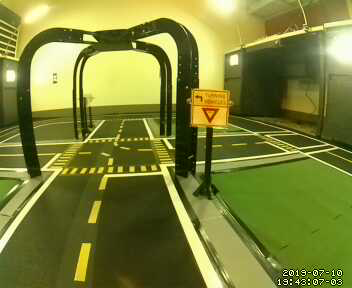Turn Yield: (191, 88, 229, 129)
